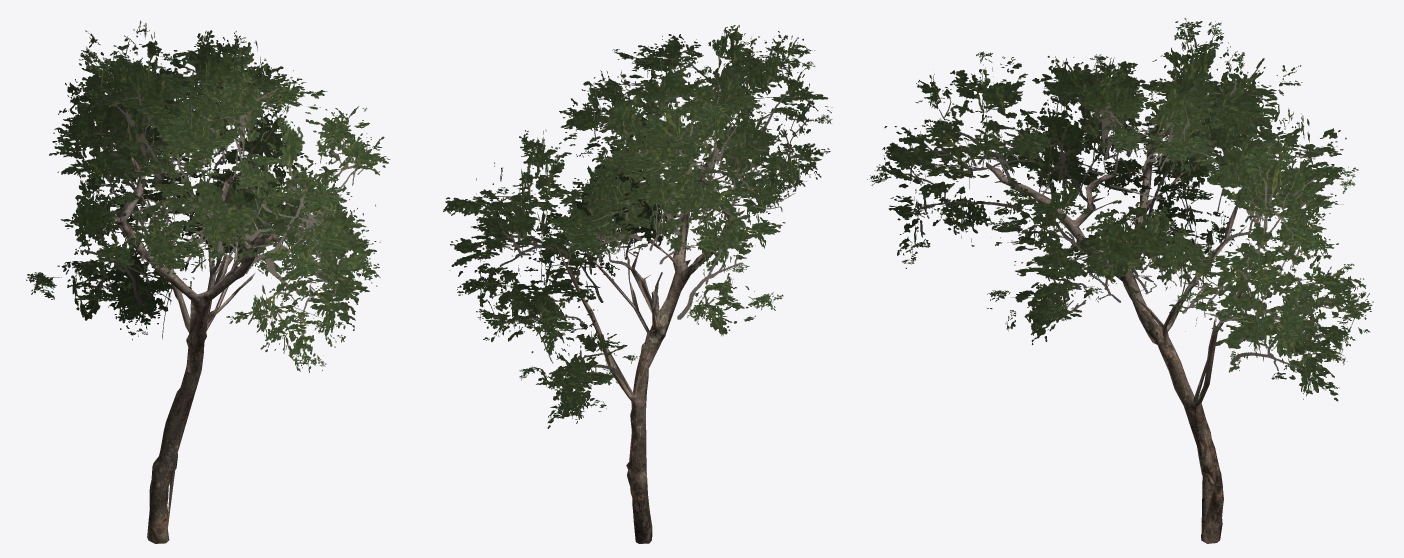
File: tree_small_02.glb
3 views of the same model, side by side, from view 1: azimuth 30°, elevation 25°; view 2: azimuth 150°, elevation 25°; view 3: azimuth 270°, elevation 25° (orthographic). The views are drawn at different scales.
Visible parts, largest first — view 1: foliage, tree_small_02_LOD0 (×2); view 2: foliage, tree_small_02_LOD0 (×2); view 3: foliage, tree_small_02_LOD0 (×2).
Part boxes in pixels (left/top/right/bottom): foliage: left=26, top=20, right=390, bottom=372; tree_small_02_LOD0 (×2): left=111, top=157, right=288, bottom=543; foliage: left=443, top=25, right=832, bottom=428; tree_small_02_LOD0 (×2): left=555, top=140, right=744, bottom=543; foliage: left=867, top=18, right=1373, bottom=401; tree_small_02_LOD0 (×2): left=986, top=125, right=1253, bottom=543.
Bounding box in the file's own units: 3.08 × 4.56 × 4.43.
Materials: 2 (2 with a texture image).
